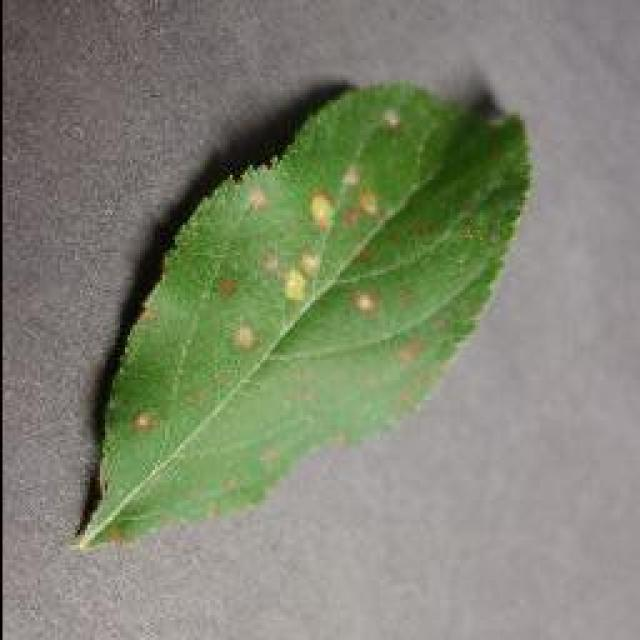apple healthy: (72, 75, 532, 550)
